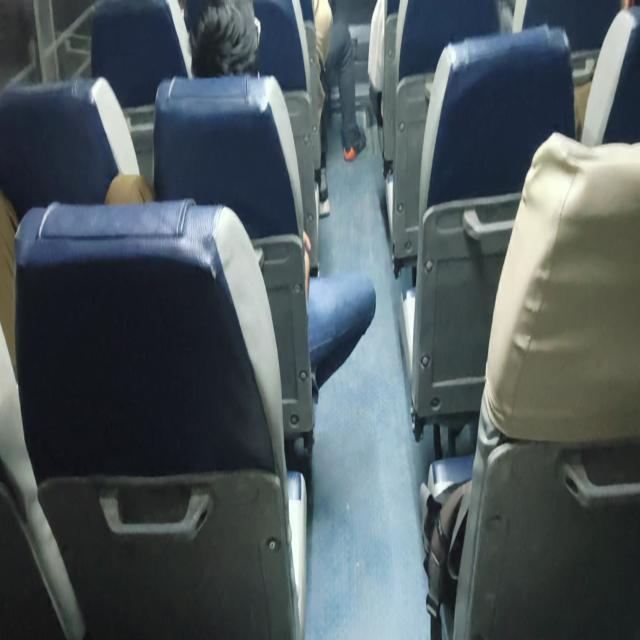person: (105, 1, 376, 404), (313, 0, 367, 162), (188, 0, 261, 78)
